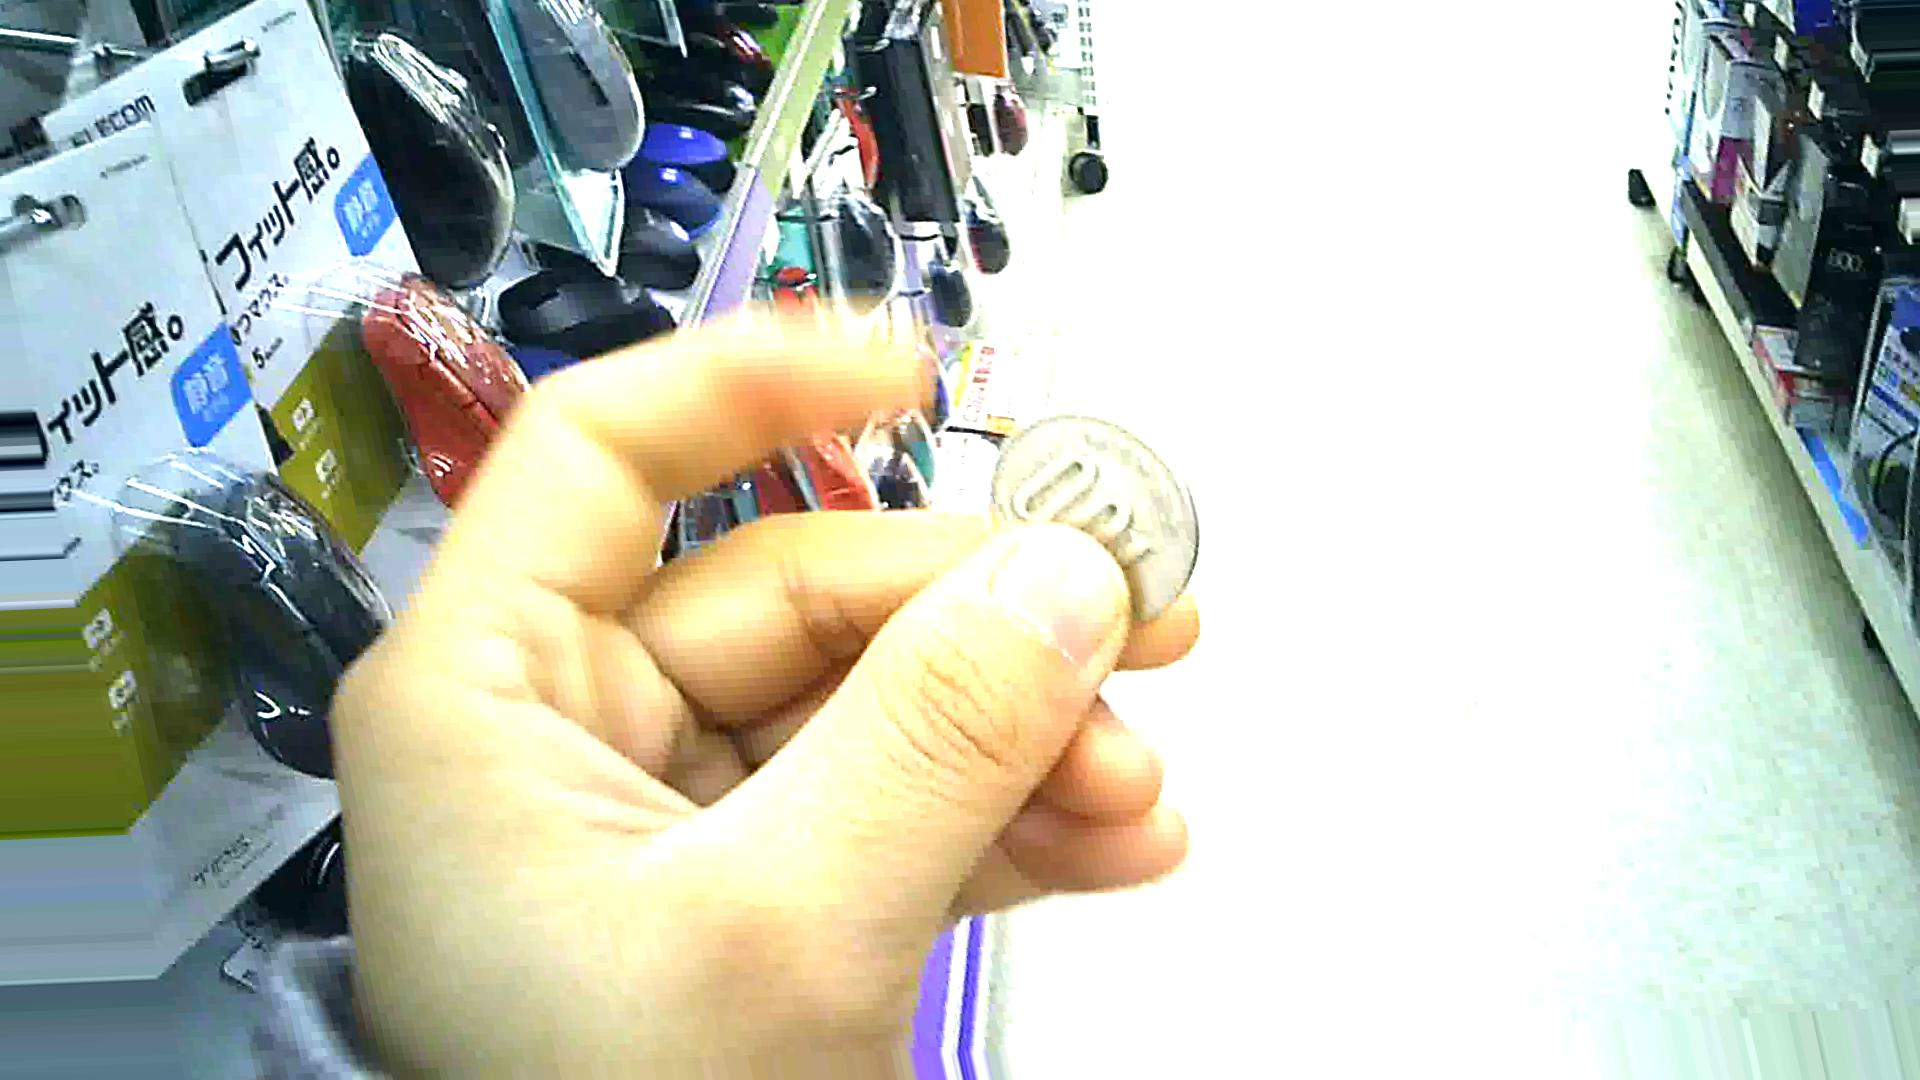100 Yen: (975, 410, 1185, 644)
